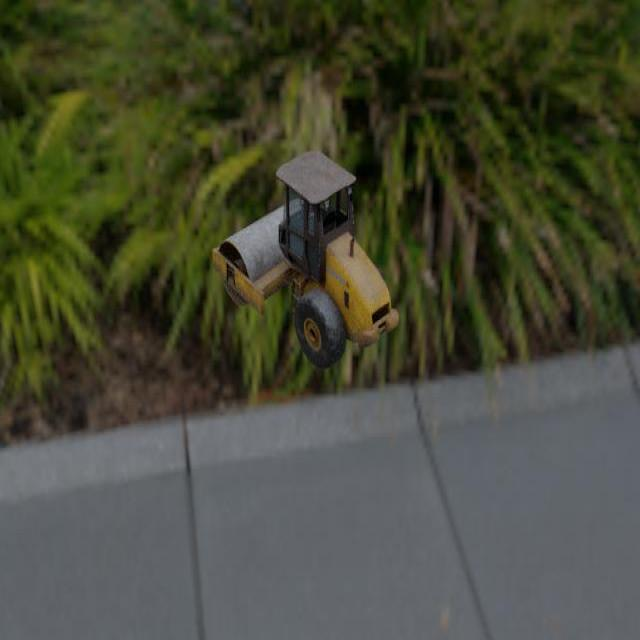Roller: (211, 150, 399, 370)
